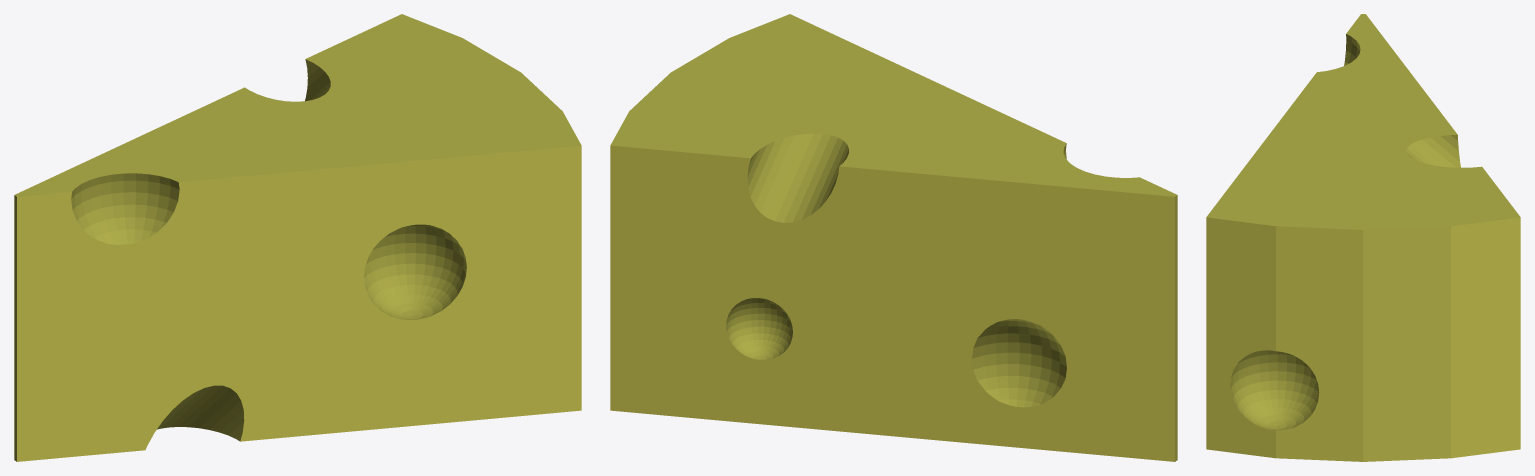
Rendered from cheesewedge.dae.
3 views of the same model, side by side, from view 1: azimuth 30°, elevation 25°; view 2: azimuth 150°, elevation 25°; view 3: azimuth 270°, elevation 25° (orthographic). The views are drawn at different scales.
Parts seen in each view (by area): view 1: Cylinder; view 2: Cylinder; view 3: Cylinder.
Part boxes in pixels (x1,y1,x2,y2): Cylinder: (14,14,581,461); Cylinder: (610,14,1177,461); Cylinder: (1206,14,1520,461).
Size of the model in its own units: 4.33 by 2.66 by 2.17.
